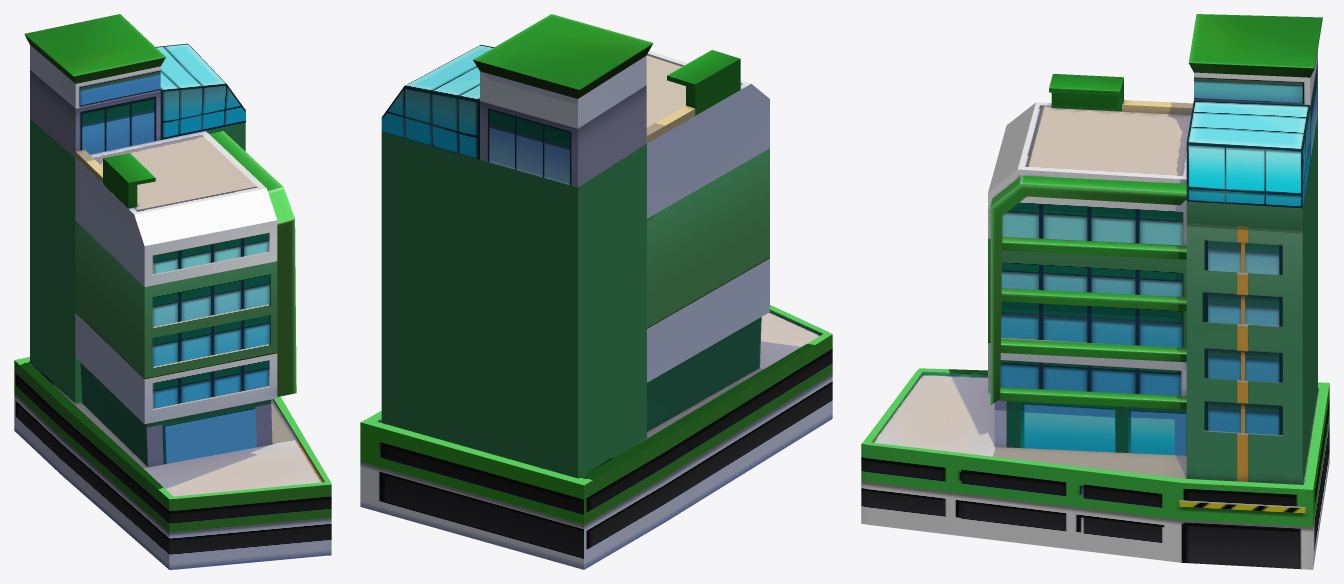
Rendered from Apartment_T2.fbx.
The picture shows the model from 3 angles, left to right: view 1: azimuth 30°, elevation 25°; view 2: azimuth 150°, elevation 25°; view 3: azimuth 270°, elevation 25°; orthographic projection. The views are drawn at different scales.
Parts seen in each view (by area): view 1: pCube30; view 2: pCube30; view 3: pCube30.
Boxes of the visible parts, box(x1,y1,x2,y2) form: pCube30: box(14, 14, 331, 569); pCube30: box(360, 14, 832, 569); pCube30: box(861, 14, 1329, 569).
Bounding box in the file's own units: 51.26 × 88.19 × 83.31.
Materials: 1 (1 with a texture image).
